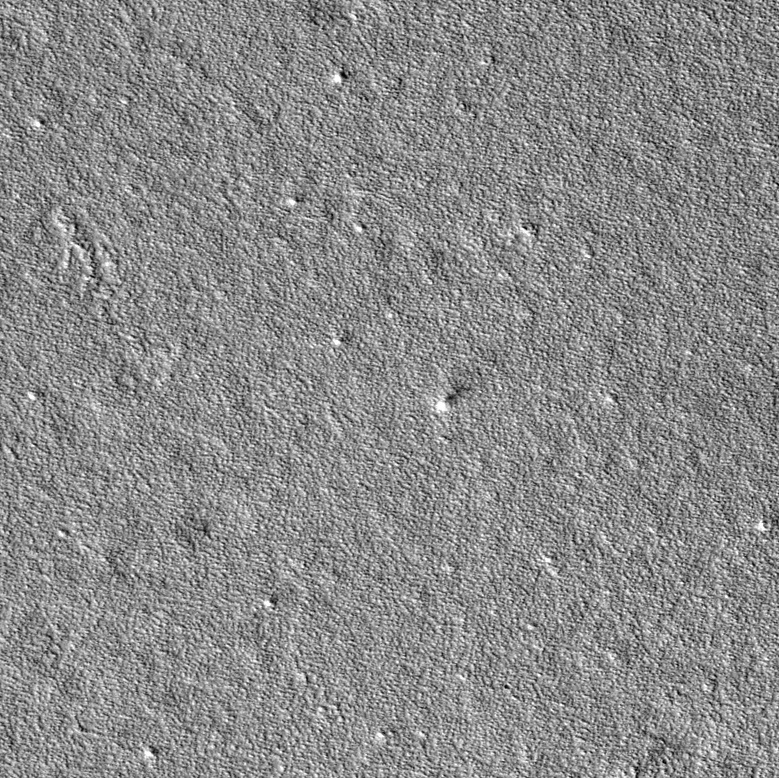dust_devil: (433, 383, 472, 414)
